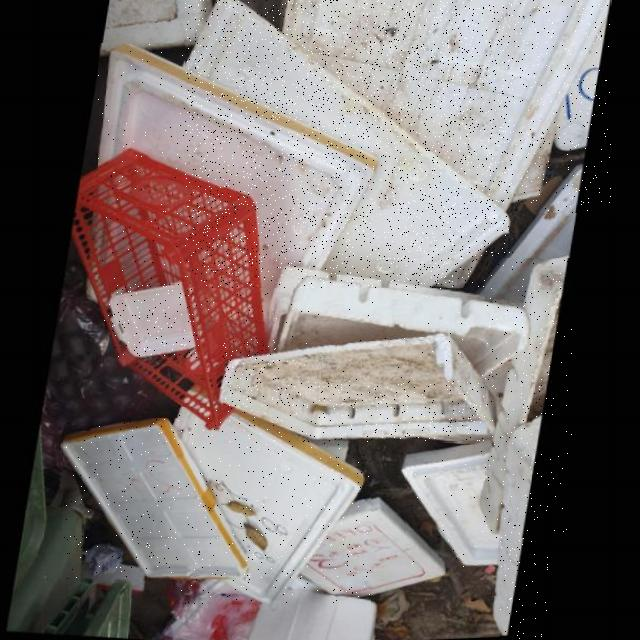styrofoam: (186, 0, 513, 288), (99, 44, 379, 321), (290, 0, 611, 213), (179, 408, 371, 606), (64, 418, 254, 581), (223, 338, 502, 442), (279, 279, 534, 381), (485, 259, 572, 538), (407, 446, 508, 570), (501, 420, 548, 639), (113, 284, 199, 358)
